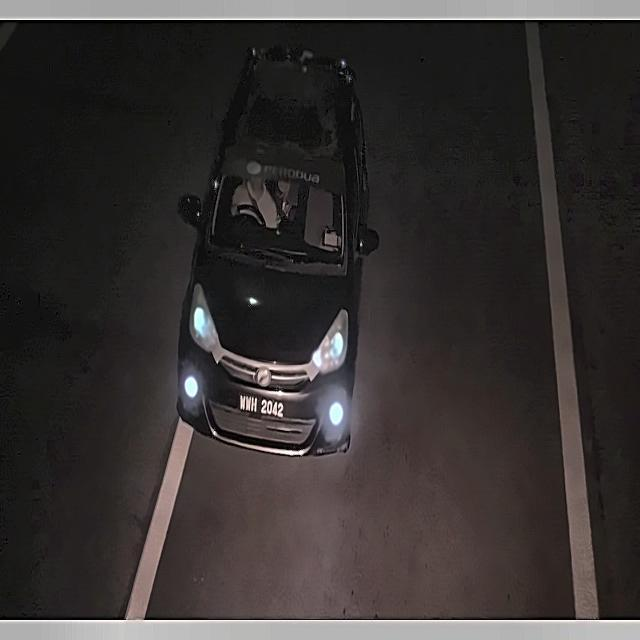car: (234, 382, 287, 433)
